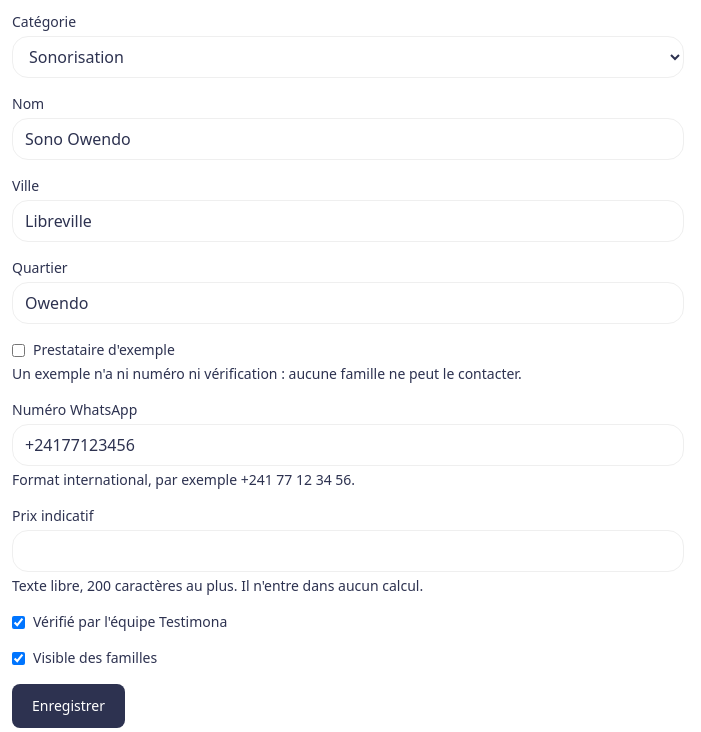
Test: ProviderForm › désactive le numéro et la vérification pour un exemple
Click the checkbox labelled "Prestataire d'exemple" at (18, 350), box [12,344,25,356]
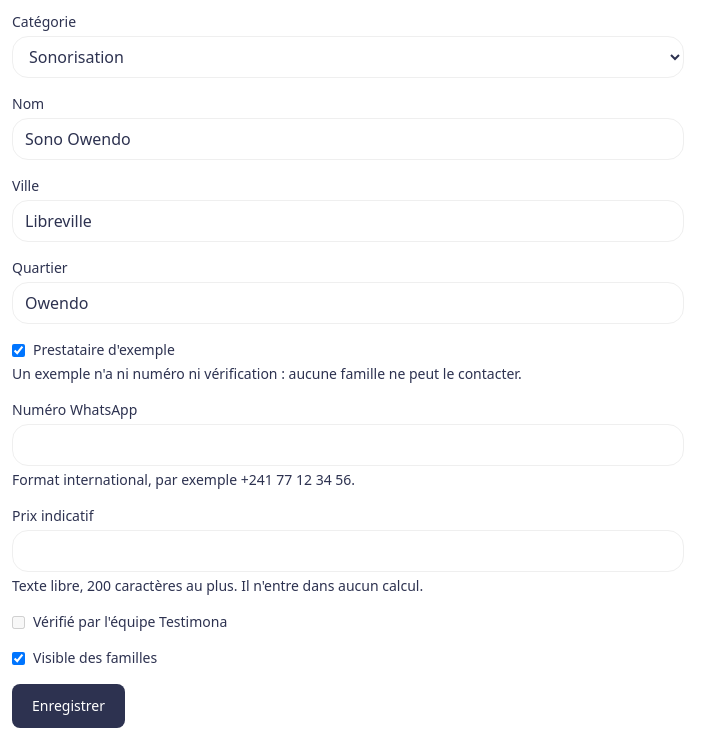
Now the checkbox labelled "Vérifié par l'équipe Testimona" is disabled, box [12,616,25,628]
